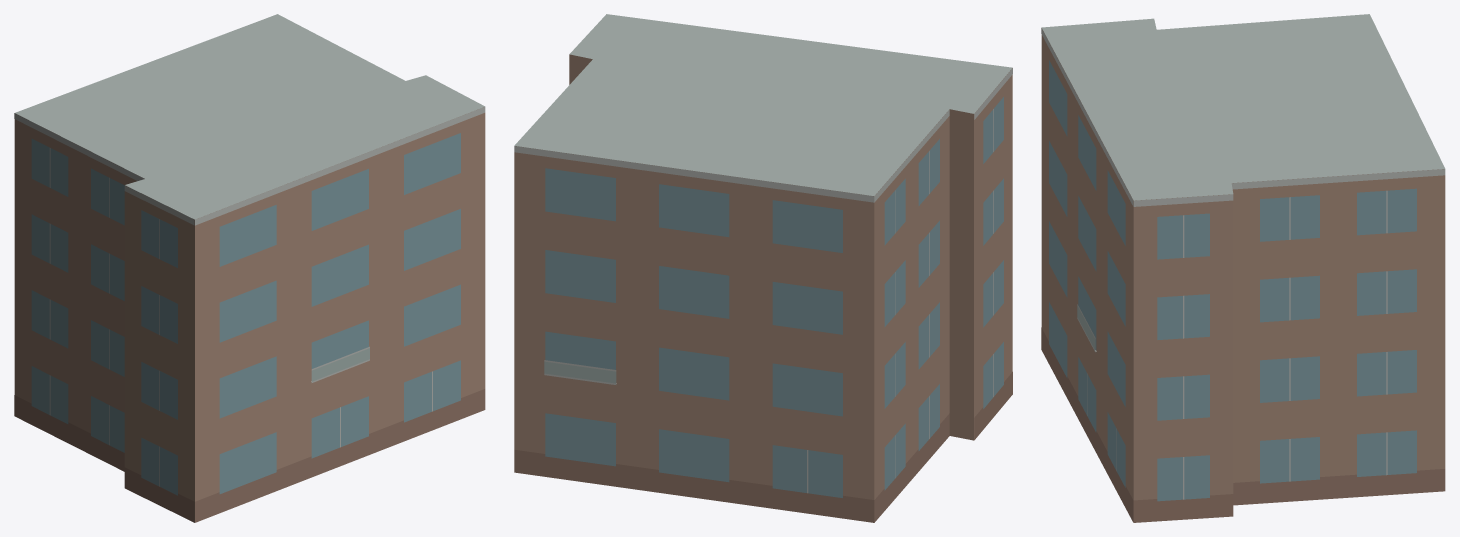
Rendered from survey-upis-32974917.glb.
3 renders of one model, left to right at view 1: azimuth 30°, elevation 25°; view 2: azimuth 150°, elevation 25°; view 3: azimuth 270°, elevation 25°, orthographic. The views are drawn at different scales.
Visible parts, largest first — view 1: survey-upis-32974917.tmp; view 2: survey-upis-32974917.tmp; view 3: survey-upis-32974917.tmp.
Boxes of the visible parts, box(x1,y1,x2,y2) form: survey-upis-32974917.tmp: box(14, 14, 485, 522); survey-upis-32974917.tmp: box(514, 14, 1012, 522); survey-upis-32974917.tmp: box(1041, 14, 1445, 522).
Size of the model in its own units: 15.28 by 12.3 by 13.98.
